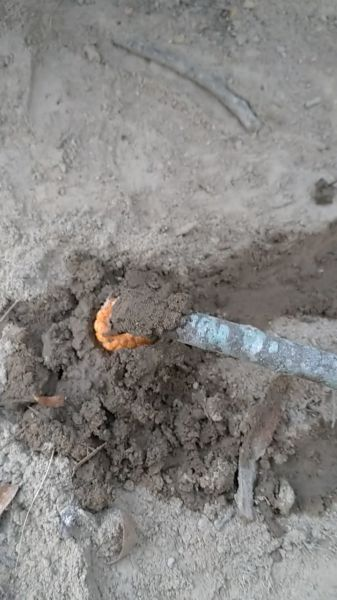eggs: (88, 290, 167, 361)
